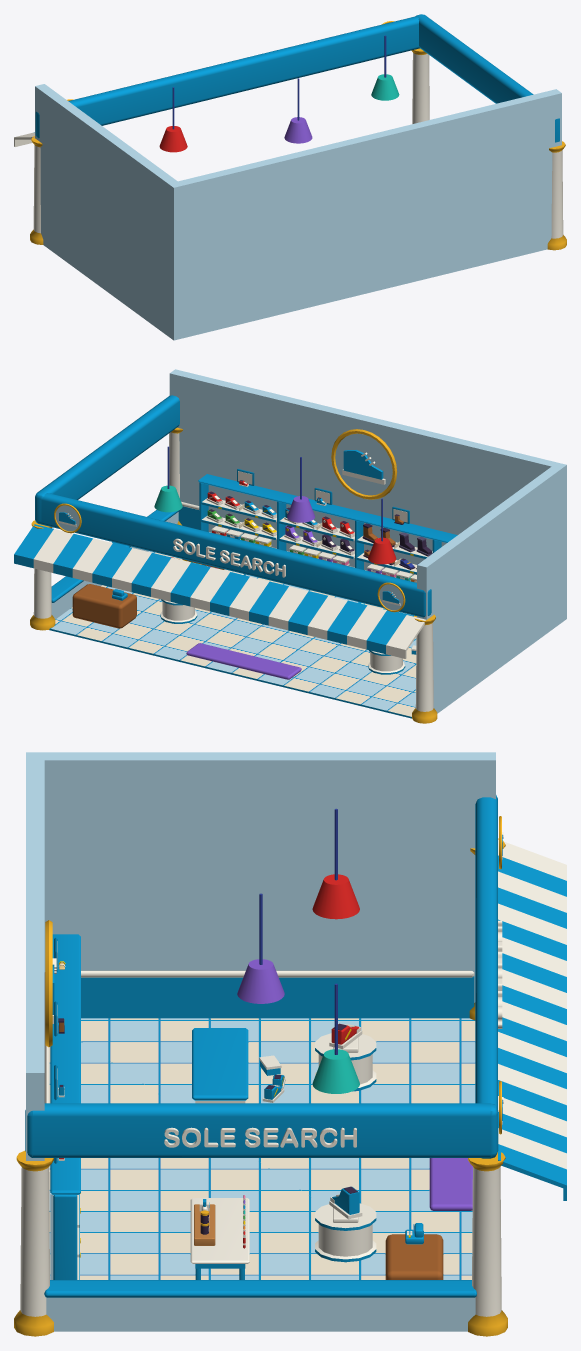
File: sole_search.glb
3 renders of one model, top to bottom at view 1: azimuth 30°, elevation 25°; view 2: azimuth 150°, elevation 25°; view 3: azimuth 270°, elevation 25°, orthographic. The views are drawn at different scales.
Visible parts, largest first — view 1: Shop_Sole_Back_Wall, Shop_Sole_Side_Wall, Shop_Sole_Front_Canopy, Shop_Sole_Shell, Sole_Pendant_Shade_1, Sole_Pendant_Shade_2, Sole_Pendant_Shade_0; view 2: Shop_Sole_Front_Canopy, Shop_Sole_Back_Wall, Shop_Sole_Side_Wall, Shop_Sole_Shell, M_Sole_ShoeWall, Sole_Checkout, Refined_Sole_Entry_Mat, M_Sole_Hero, Sole_Pendant_Shade_2, Sole_Pendant_Shade_0, Sole_Pendant_Shade_1; view 3: Shop_Sole_Side_Wall, Shop_Sole_Shell, Shop_Sole_Front_Canopy, M_Sole_ShoeWall, Shop_Sole_Back_Wall, M_Sole_Hero, M_Sole_Socks, Sole_Fitting_Bench.001, Sole_Checkout, Refined_Sole_Entry_Mat, Sole_Pendant_Shade_1, Sole_Pendant_Shade_0 (+2 smaller).
Boxes of the visible parts, x1,y1,x2,y2 form: Shop_Sole_Back_Wall: (168, 89, 561, 340); Shop_Sole_Side_Wall: (35, 84, 177, 335); Shop_Sole_Front_Canopy: (14, 14, 559, 146); Shop_Sole_Shell: (30, 48, 566, 250); Sole_Pendant_Shade_1: (284, 117, 312, 143); Sole_Pendant_Shade_2: (371, 74, 399, 100); Sole_Pendant_Shade_0: (159, 126, 187, 152); Shop_Sole_Front_Canopy: (14, 395, 431, 658); Shop_Sole_Back_Wall: (169, 369, 566, 622); Shop_Sole_Side_Wall: (417, 466, 561, 713); Shop_Sole_Shell: (30, 427, 437, 723); M_Sole_ShoeWall: (198, 469, 457, 582); Sole_Checkout: (72, 584, 136, 628); Refined_Sole_Entry_Mat: (186, 643, 301, 679); M_Sole_Hero: (160, 599, 405, 674); Sole_Pendant_Shade_2: (154, 485, 182, 512); Sole_Pendant_Shade_0: (368, 537, 396, 564); Sole_Pendant_Shade_1: (287, 496, 315, 522); Shop_Sole_Side_Wall: (44, 752, 495, 1018); Shop_Sole_Shell: (14, 838, 507, 1336); Shop_Sole_Front_Canopy: (25, 795, 566, 1200); M_Sole_ShoeWall: (50, 934, 80, 1279); Shop_Sole_Back_Wall: (26, 752, 56, 1210); M_Sole_Hero: (315, 1023, 376, 1262); M_Sole_Socks: (190, 1195, 249, 1279); Sole_Fitting_Bench.001: (192, 1028, 248, 1103); Sole_Checkout: (385, 1234, 443, 1279); Refined_Sole_Entry_Mat: (429, 1158, 472, 1210); Sole_Pendant_Shade_1: (237, 959, 284, 1003); Sole_Pendant_Shade_0: (312, 874, 359, 919).
Size of the model in its own units: 12.48 by 4.89 by 8.82.
Materials: 21 (1 with a texture image).
